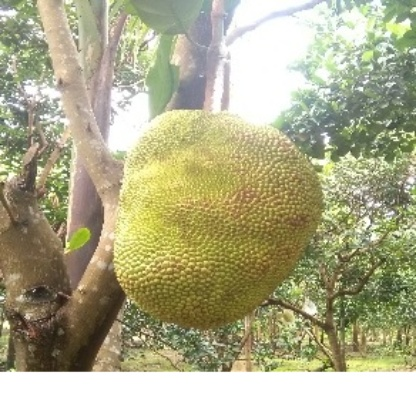mit: (115, 112, 322, 315)
